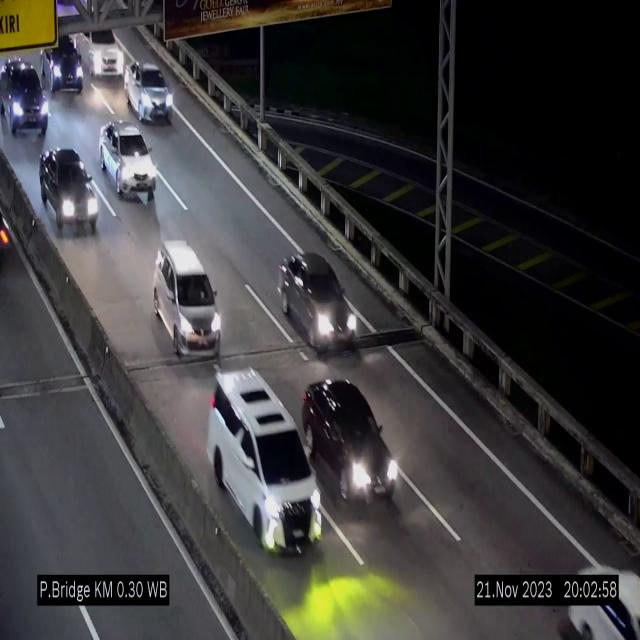Car: (208, 372, 322, 553), (304, 364, 400, 496), (154, 240, 222, 358), (278, 253, 359, 351), (554, 555, 640, 640), (36, 149, 100, 235), (100, 121, 156, 202), (73, 5, 131, 82), (0, 55, 50, 144), (126, 60, 173, 121), (45, 37, 81, 89)
